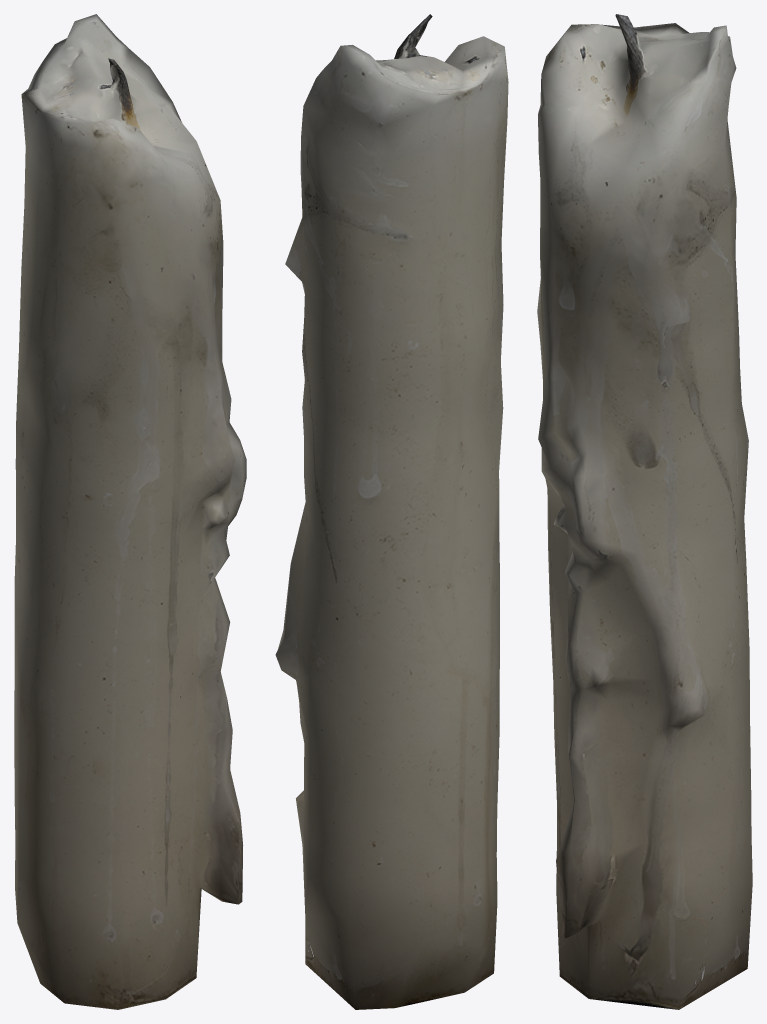
The model's file is sm_Candle_01_04.fbx.
3 renders of one model, left to right at view 1: azimuth 30°, elevation 25°; view 2: azimuth 150°, elevation 25°; view 3: azimuth 270°, elevation 25°, orthographic. The views are drawn at different scales.
Parts seen in each view (by area): view 1: sm_Candle_01_04_LOD0; view 2: sm_Candle_01_04_LOD0; view 3: sm_Candle_01_04_LOD0.
Boxes of the visible parts, bbox=[...] form: sm_Candle_01_04_LOD0: bbox=[14, 14, 246, 1009]; sm_Candle_01_04_LOD0: bbox=[275, 14, 508, 1009]; sm_Candle_01_04_LOD0: bbox=[537, 14, 752, 1009].
Size of the model in its own units: 7.62 by 7.24 by 35.21.
